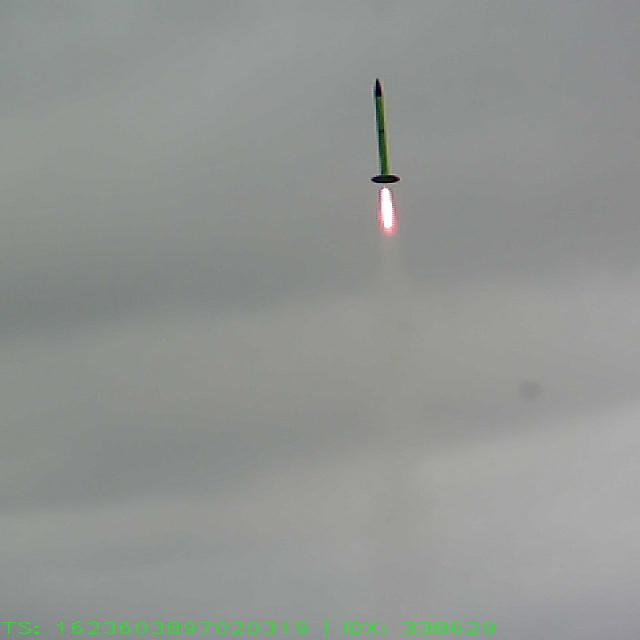Rocket: (369, 76, 403, 185)
